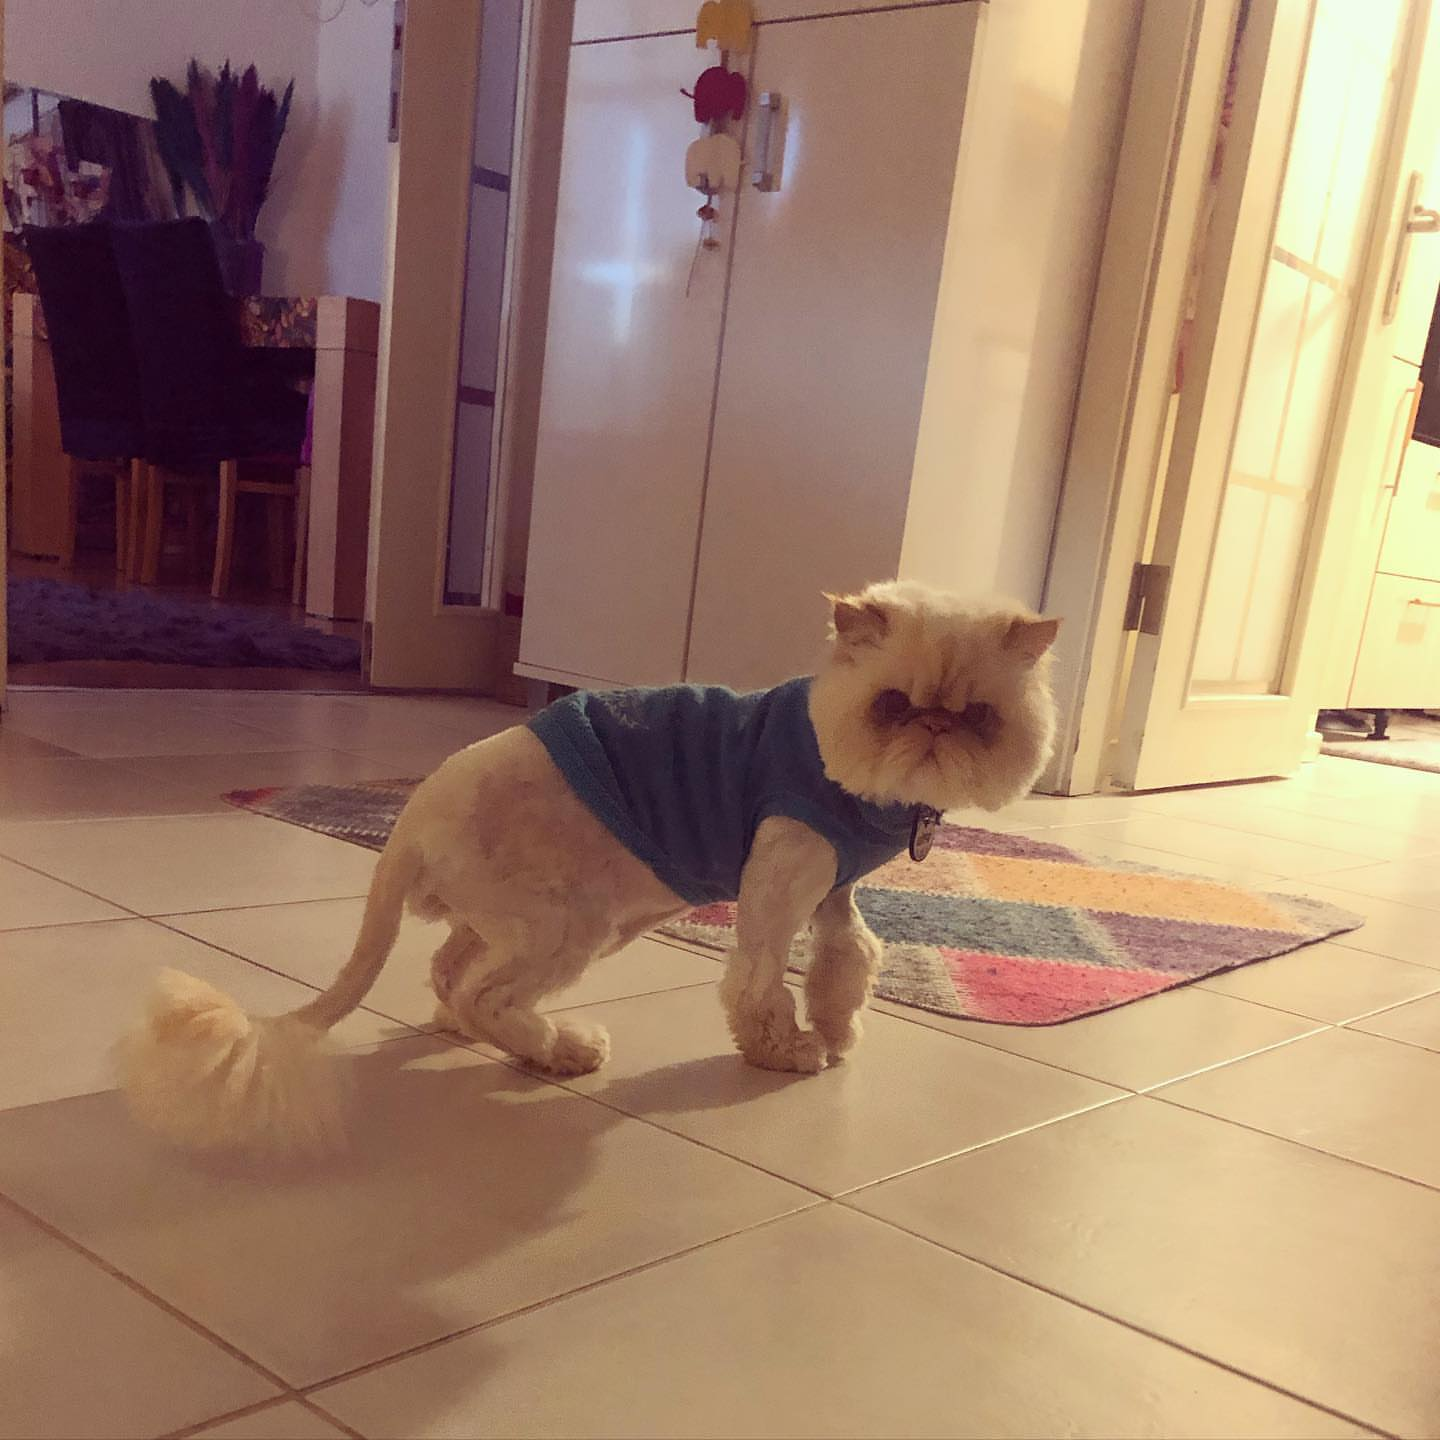cat: (644, 593, 1077, 882)
